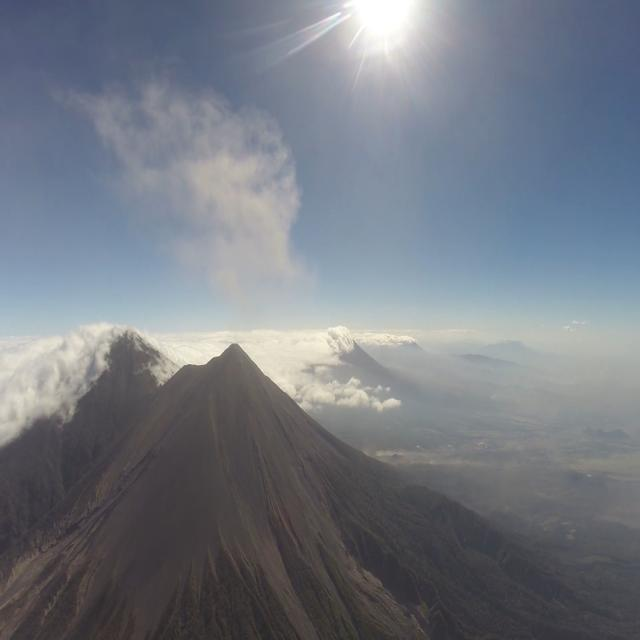Plume: (73, 38, 304, 292)
Summit: (212, 340, 252, 364)
